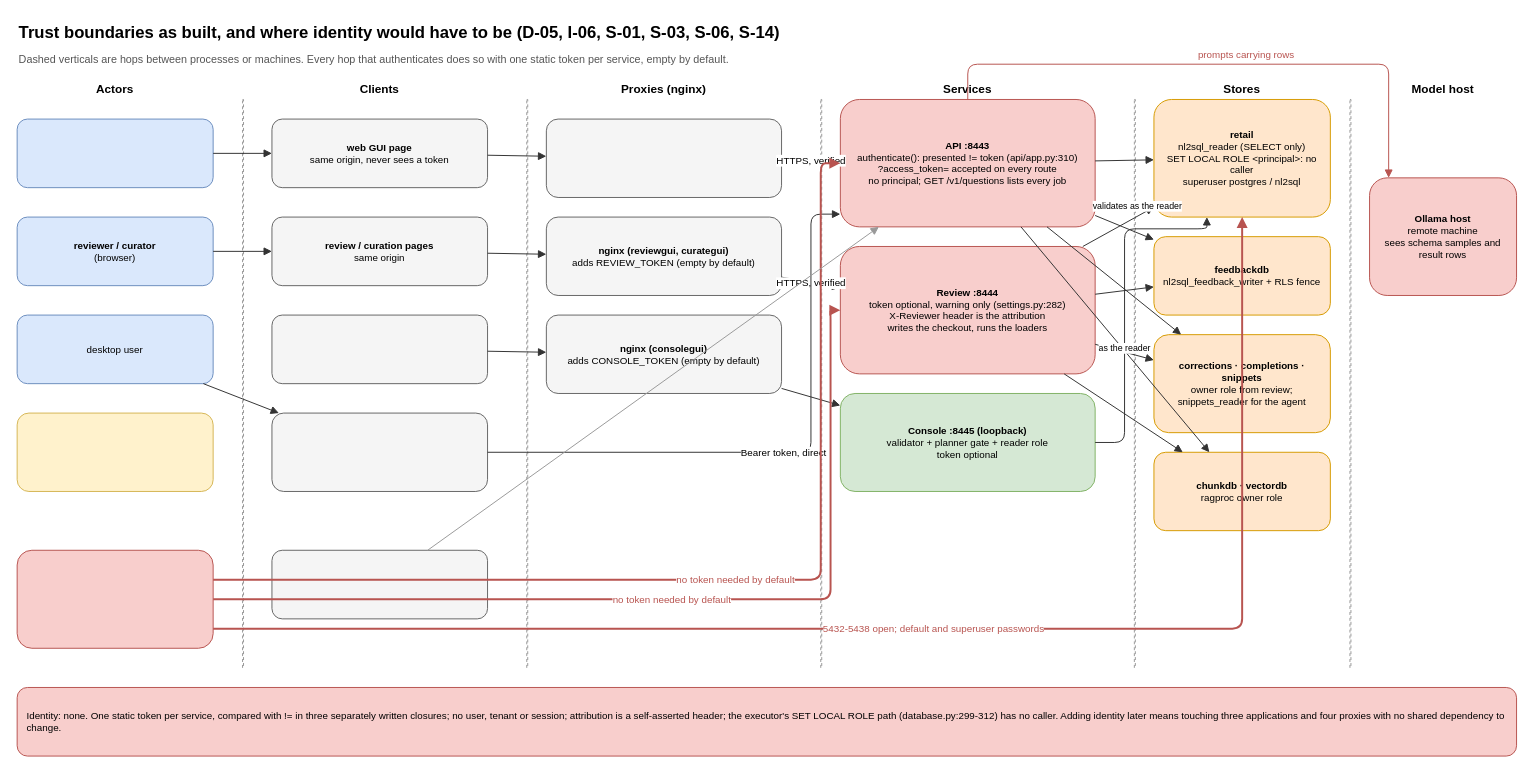
This 1534x773 diagram has some shape labels left out. Here are the shapes that lost their labels. From the top down, the centre of each, then its label:
At point 114,153: "end user (browser)".
At point 663,157: "nginx (gui) adds Authorization: Bearer API_TOKEN API_TOKEN empty by default".
At point 379,349: "console page (loopback)".
At point 114,451: "operator (shell) .env holds every token and password; .env.bak holds a copy".
At point 379,451: "desktop jar bearer token; CA file, pinned fingerprint or --insecure".
At point 114,598: "anyone on the network reaches the 0.0.0.0 ports directly".
At point 379,584: "any HTTP or Postgres client".
